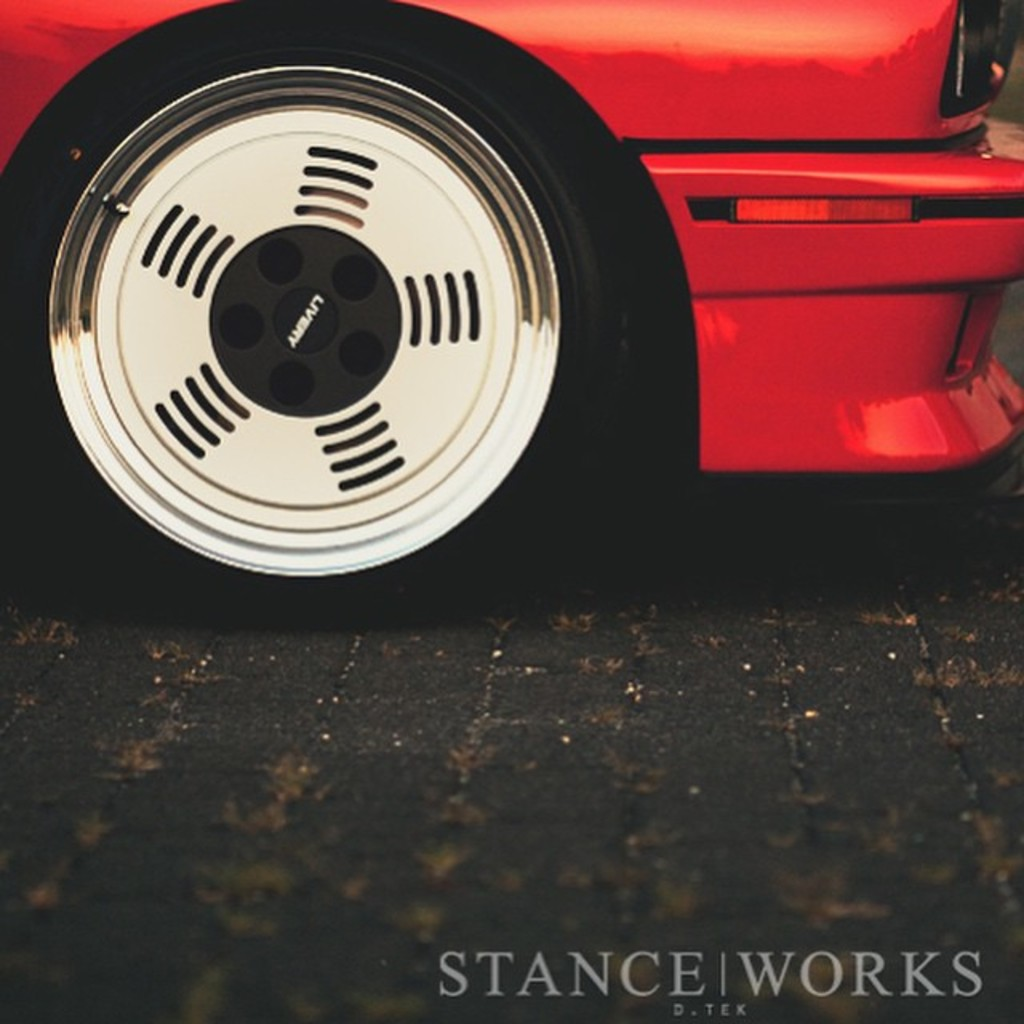Car: (0, 0, 1022, 615)
